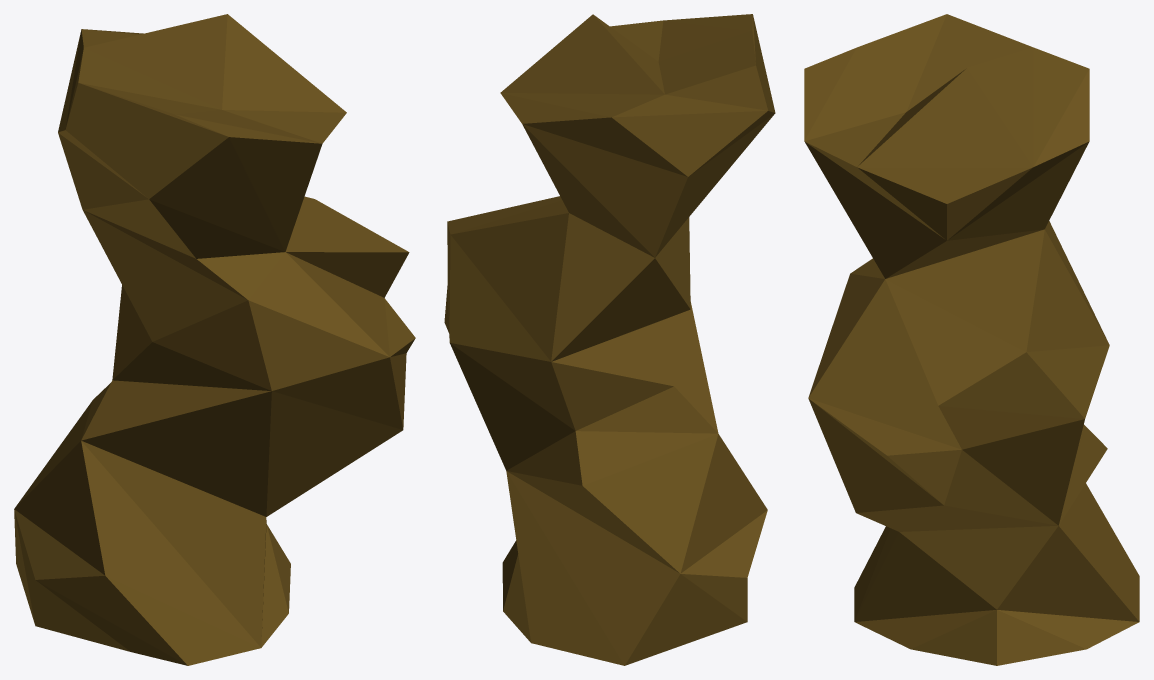
File: Rock_Pillar.fbx
3 renders of one model, left to right at view 1: azimuth 30°, elevation 25°; view 2: azimuth 150°, elevation 25°; view 3: azimuth 270°, elevation 25°, orthographic. The views are drawn at different scales.
Visible parts, largest first — view 1: smallRockPillar; view 2: smallRockPillar; view 3: smallRockPillar.
Boxes of the visible parts, x1=… form: smallRockPillar: x1=14, y1=14, x2=415, y2=665; smallRockPillar: x1=444, y1=14, x2=775, y2=665; smallRockPillar: x1=804, y1=14, x2=1139, y2=665.
Bounding box in the file's own units: 9.45 × 15.39 × 8.26.
